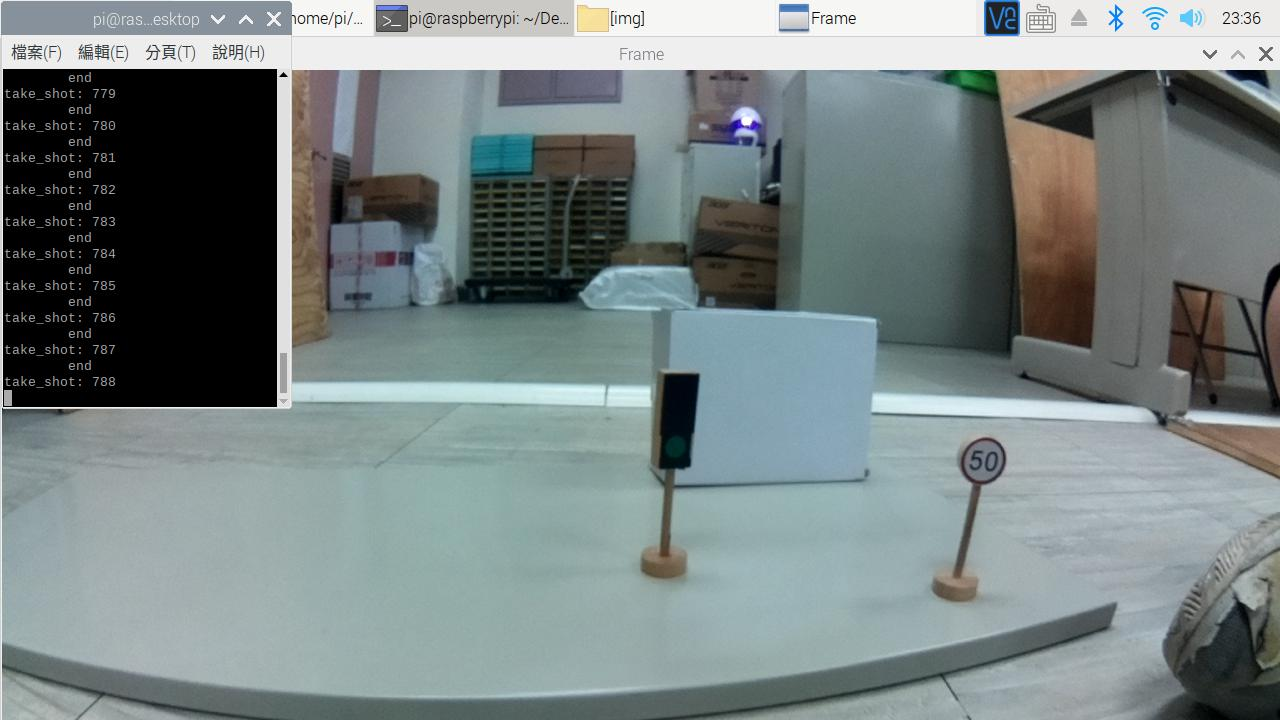Green: (635, 361, 701, 486)
Speed50: (952, 431, 1024, 490)
